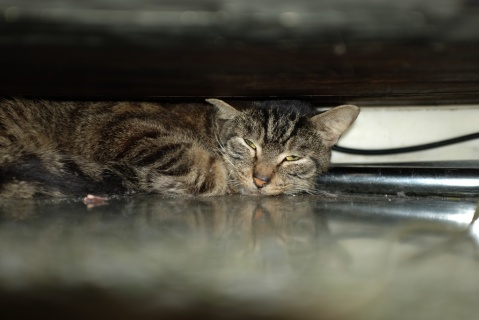Cat: (0, 95, 359, 198)
